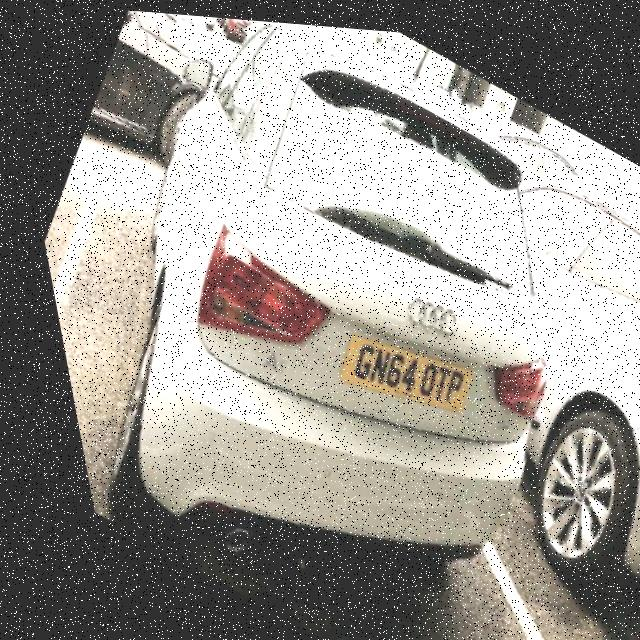license_plate: (311, 299, 474, 438)
